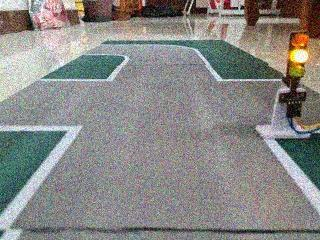yellow: (273, 25, 320, 94)
